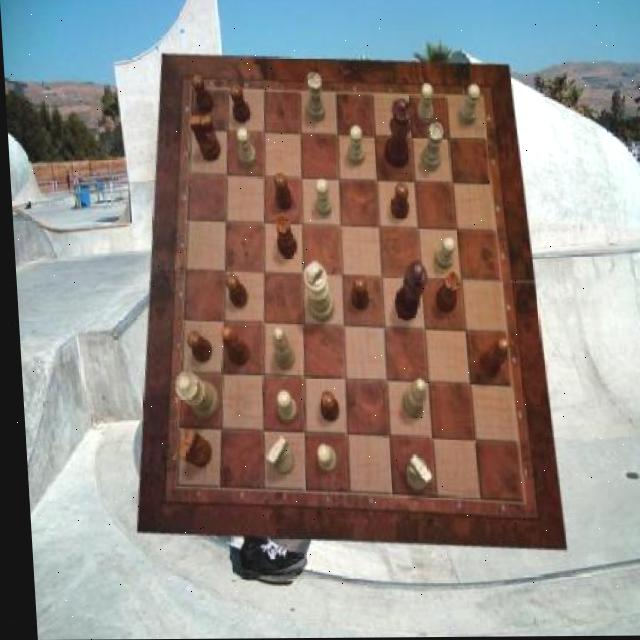bishop: (473, 340, 507, 380), (218, 326, 247, 366)
black-bishop: (388, 262, 425, 322)
black-king: (188, 116, 220, 162), (172, 430, 206, 468)
black-knight: (191, 76, 213, 116), (182, 331, 208, 364), (221, 274, 244, 309), (228, 85, 249, 123), (387, 184, 407, 220), (272, 174, 291, 211), (346, 276, 365, 311), (315, 392, 334, 423)
black-pawn: (380, 99, 415, 170)
black-queen: (432, 273, 458, 314), (272, 215, 294, 259)
black-rook: (397, 381, 423, 421), (267, 328, 290, 370)
white-bishop: (299, 261, 329, 323)
white-king: (261, 437, 290, 475), (400, 455, 426, 493)
white-knight: (457, 85, 482, 127), (430, 236, 454, 270), (344, 125, 363, 166), (413, 84, 432, 125), (235, 129, 254, 168), (311, 180, 330, 218), (271, 391, 292, 423), (311, 444, 331, 472)
white-pawn: (170, 371, 215, 419)
white-queen: (417, 124, 444, 173), (304, 72, 324, 123)
